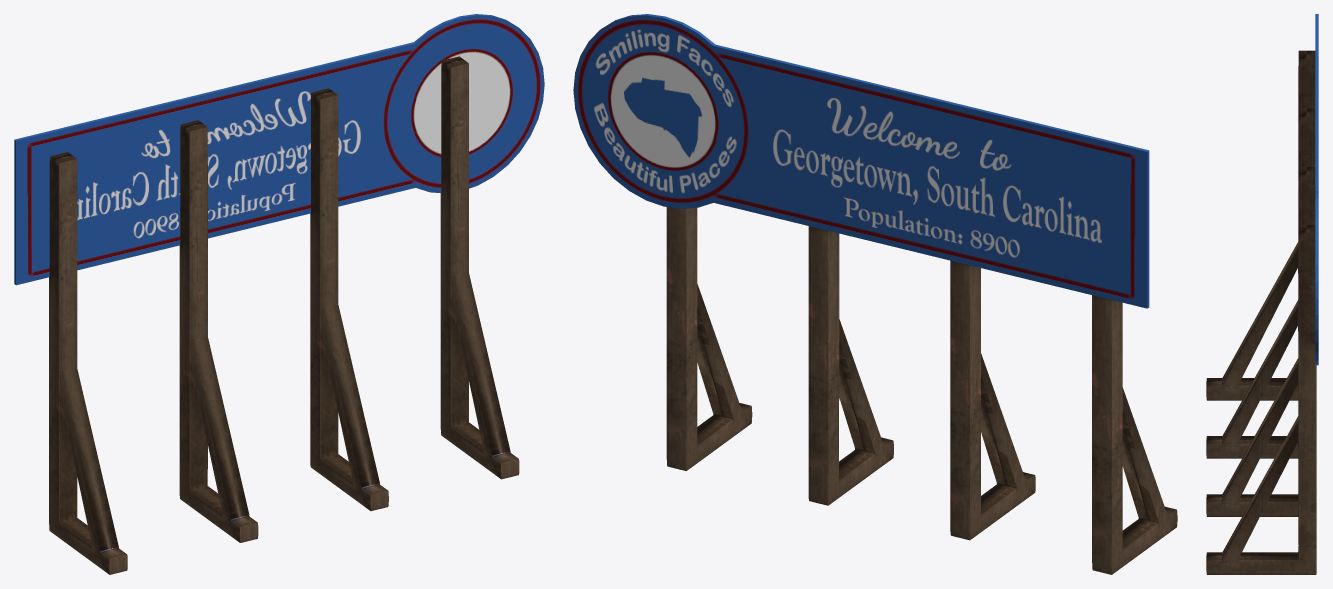
The model's file is SignCity.fbx.
3 renders of one model, left to right at view 1: azimuth 30°, elevation 25°; view 2: azimuth 150°, elevation 25°; view 3: azimuth 270°, elevation 25°, orthographic. The views are drawn at different scales.
Parts seen in each view (by area): view 1: SignCity, SignSupports; view 2: SignCity, SignSupports; view 3: SignSupports, SignCity.
Boxes of the visible parts, x1=… form: SignCity: x1=14, y1=14, x2=544, y2=285; SignSupports: x1=49, y1=56, x2=519, y2=574; SignCity: x1=573, y1=14, x2=1149, y2=308; SignSupports: x1=666, y1=207, x2=1177, y2=574; SignSupports: x1=1206, y1=50, x2=1316, y2=574; SignCity: x1=1315, y1=14, x2=1318, y2=365.
Size of the model in its own units: 637 by 476 by 128.
Materials: 1 (1 with a texture image).
